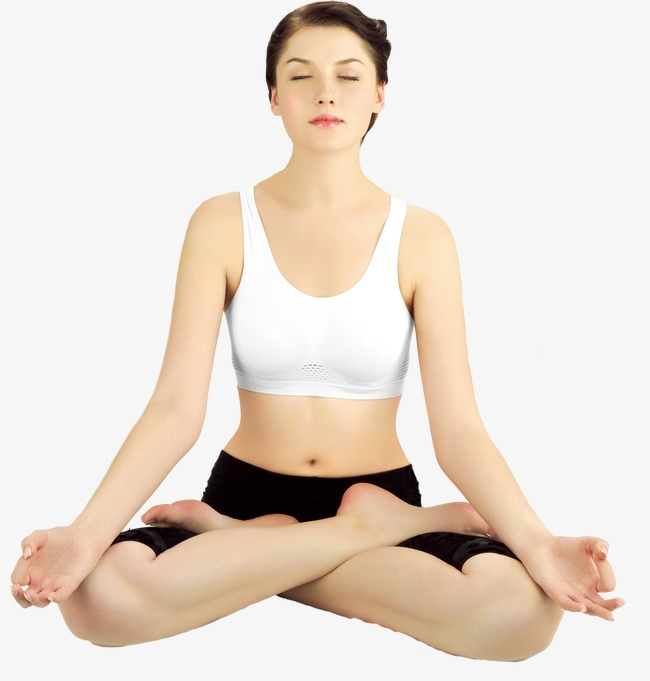hand: (520, 521, 638, 632), (7, 517, 108, 611)
